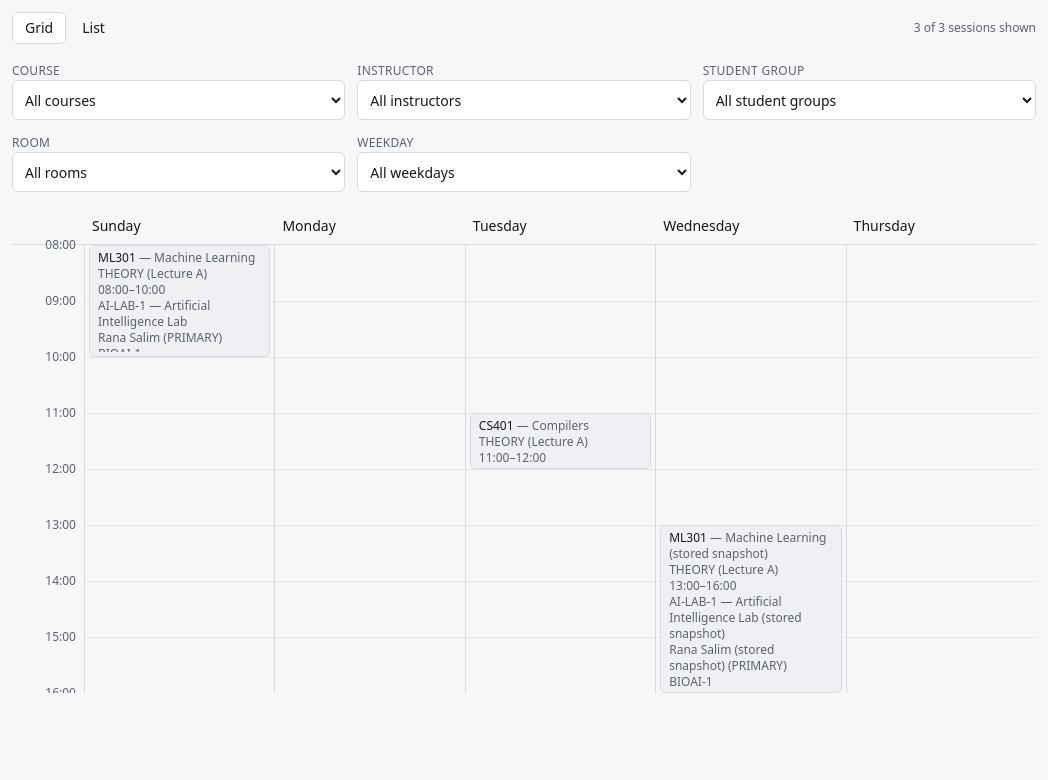
Test case: grid and list together › starts on the grid and switches to the list without losing a session
expect the element named "Timetable representation" is shown: met, box [12,12,117,44]
expect the table "Timetable sessions" is not shown: met
What coordinates should you click on to do the following:
click the button "List"
I would click on:
 (94, 28)
Its box is [70,12,117,44].
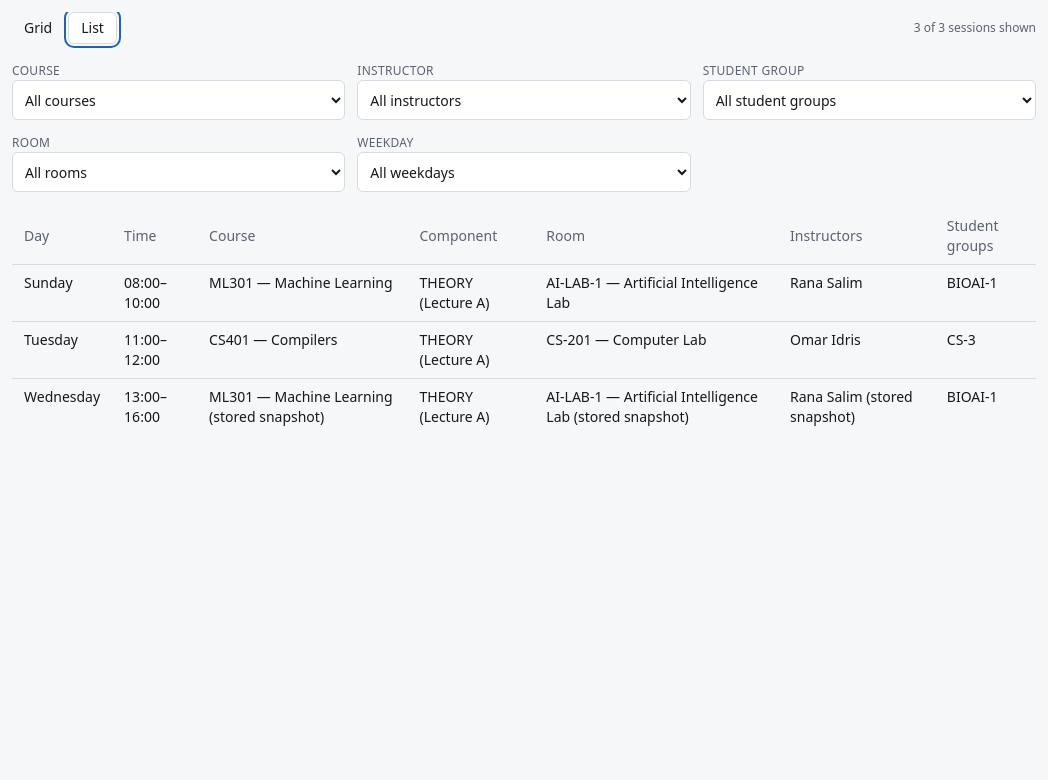
expect the number of rows is 4: met, box [12,208,1036,264]; [12,265,1036,322]; [12,322,1036,378]; [12,378,1036,435]
